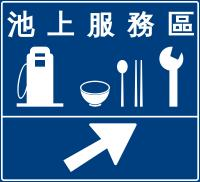Petrol Pump- Gas Station: (8, 42, 73, 111)
